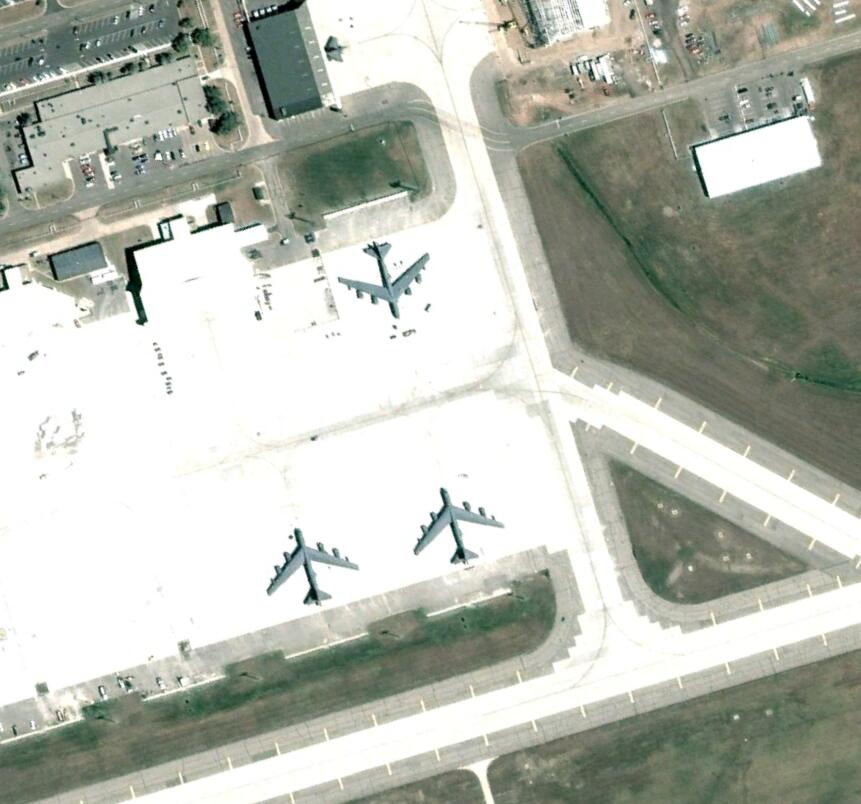A8: (409, 486, 507, 570), (261, 527, 362, 606), (337, 240, 432, 322)
